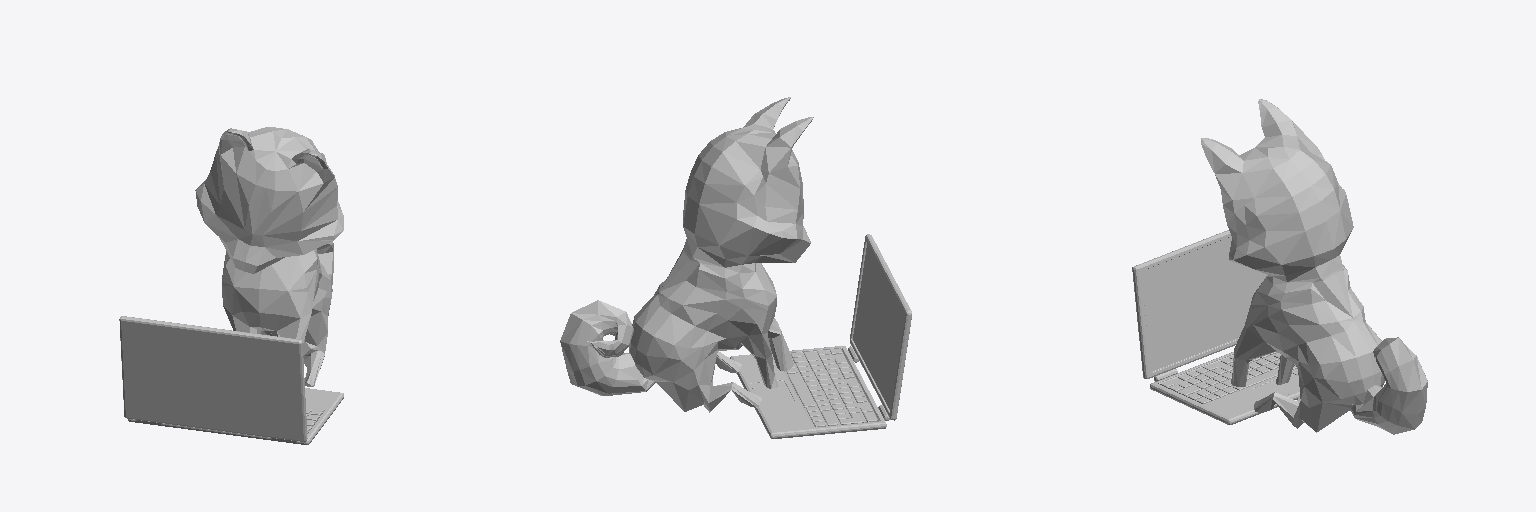
Rendered from computerWork_frame3.obj.
3 views of the same model, side by side, from view 1: azimuth 30°, elevation 25°; view 2: azimuth 150°, elevation 25°; view 3: azimuth 270°, elevation 25° (orthographic).
Parts seen in each view (by area): view 1: Sitting:newRigging:BodzL1, Computer:pCylinder3; view 2: Sitting:newRigging:BodzL1, Computer:pCylinder3; view 3: Sitting:newRigging:BodzL1, Computer:pCylinder3.
Boxes of the visible parts, box(x1,y1,x2,y2) form: Sitting:newRigging:BodzL1: box(195, 127, 343, 386); Computer:pCylinder3: box(119, 316, 343, 444); Sitting:newRigging:BodzL1: box(560, 97, 813, 412); Computer:pCylinder3: box(730, 234, 911, 438); Sitting:newRigging:BodzL1: box(1201, 99, 1427, 434); Computer:pCylinder3: box(1132, 230, 1299, 424).
Size of the model in its own units: 8.16 by 7.78 by 7.45.